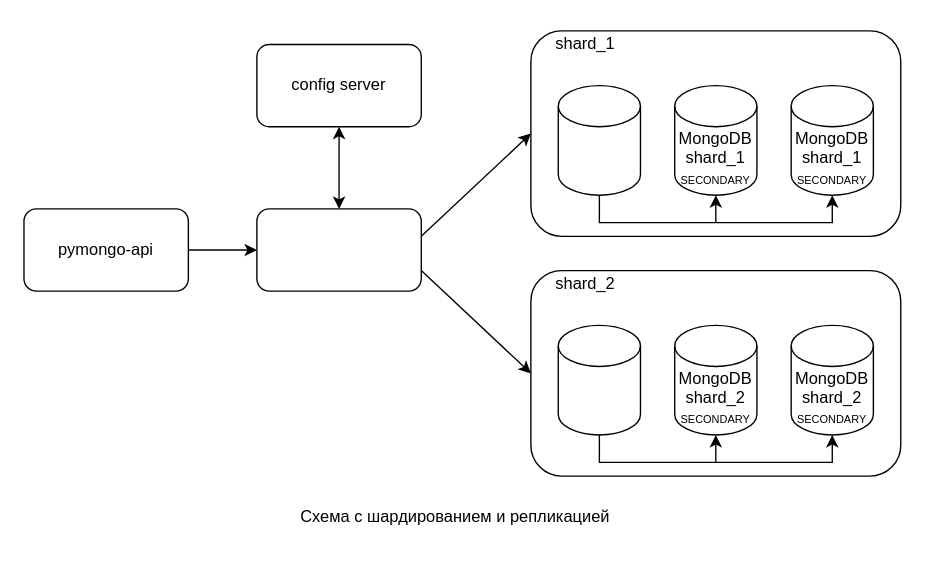
Some shapes in this 925 by 574 pixel diagram are drawn without their labels. Here are the shapes that lost their labels. From the top down, the centre of each, then its label:
At pixel 598 139: "MongoDB shard_1 PRIMARY".
At pixel 338 249: "router".
At pixel 598 379: "MongoDB shard_2 PRIMARY".
